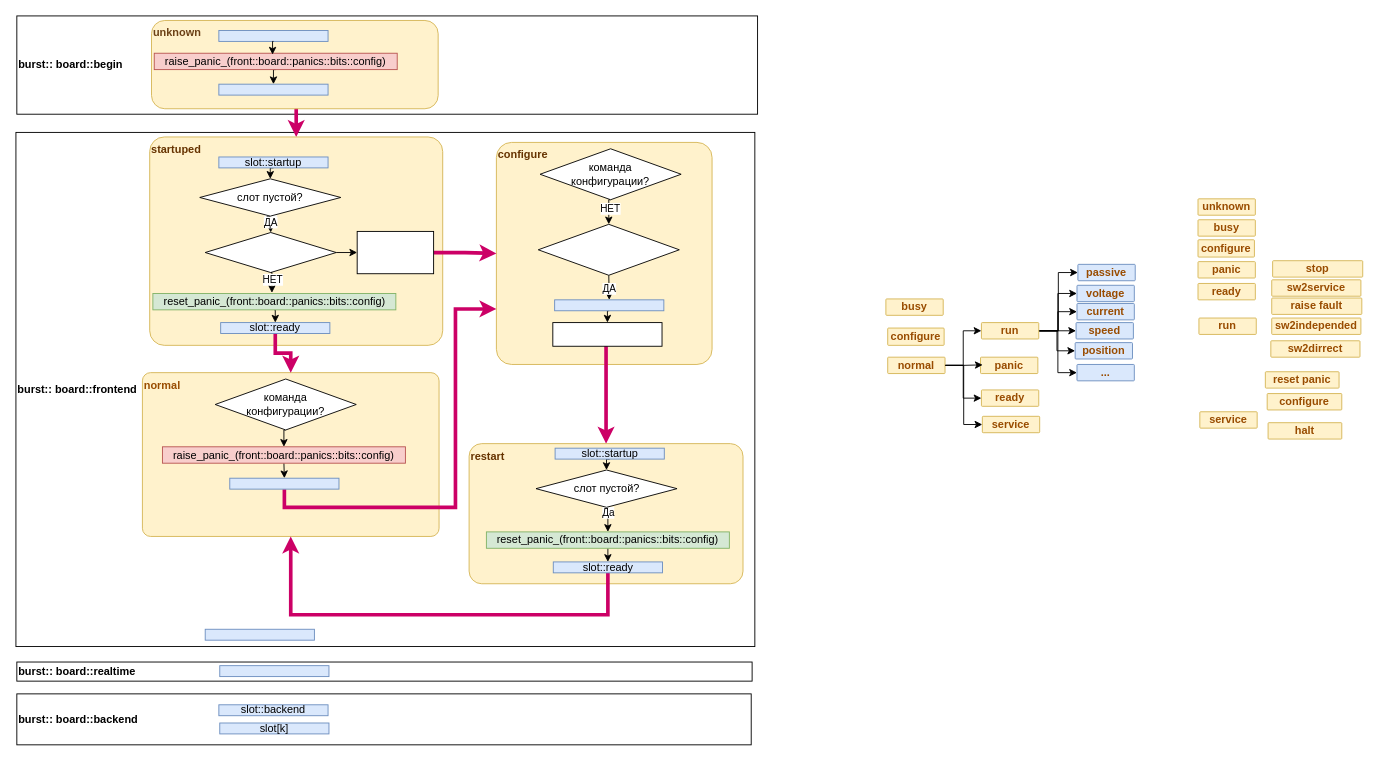
This 1379x761 diagram has some shape labels left out. The centre of each missing label's shape, as x and y in pixels:
"slot::begin" goes at (x=273, y=35).
"slot::frontend" goes at (x=259, y=634).
"slot::halt" goes at (x=284, y=483).
"slot::realtime" goes at (x=274, y=671).
"slot::reconfig" goes at (x=609, y=305).
"slot::start" goes at (x=273, y=89).
"востанавливаем слот startup" goes at (x=607, y=334).
"есть критические изменения" goes at (x=608, y=249).
"Конфигурируем немедленно?" goes at (x=270, y=252).
"установка команды конфигурации" goes at (x=395, y=252).
